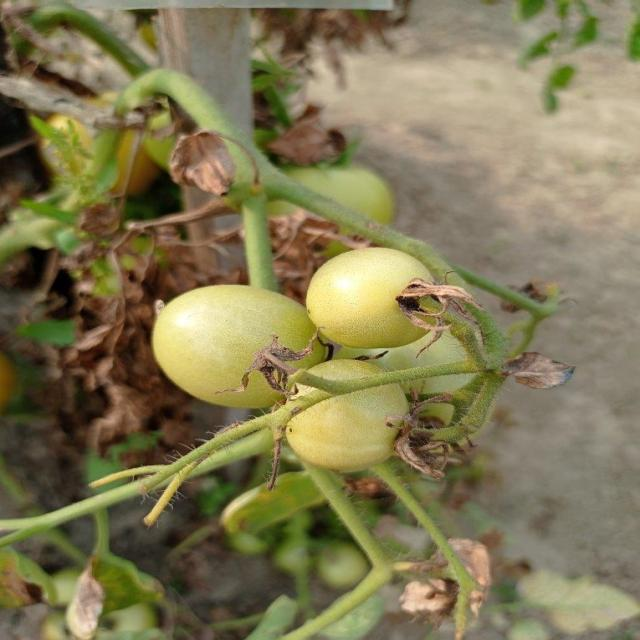Unripe: (280, 355, 413, 471), (305, 247, 436, 344)
